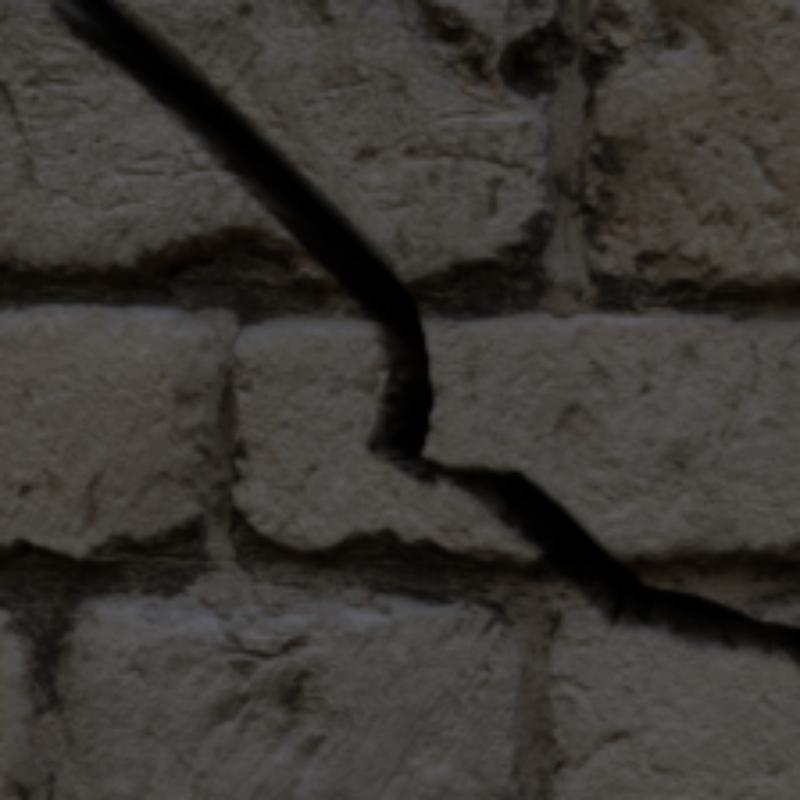pothole: (50, 0, 796, 661)
